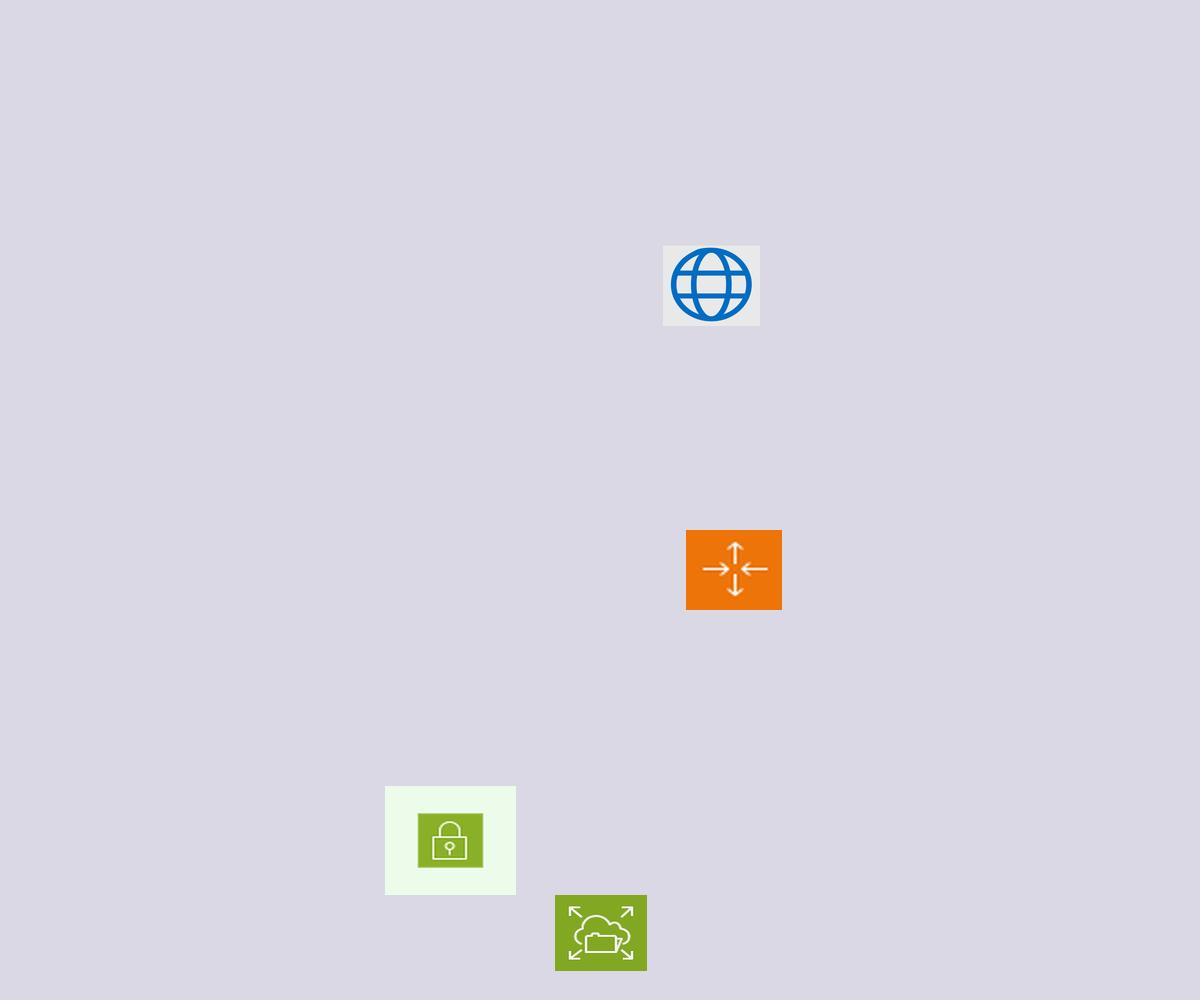AWS-EFS: (555, 895, 647, 971)
AWS-Public-subnet: (385, 786, 516, 895)
AWS-Scaling-group: (686, 530, 782, 610)
Azure_http: (663, 245, 760, 326)
